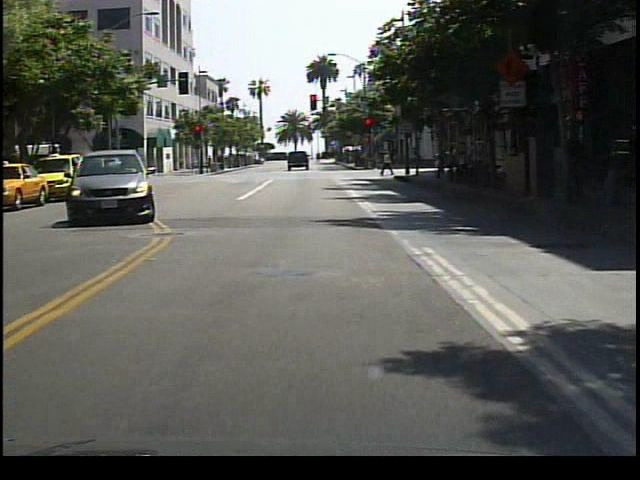person: (411, 143, 426, 174), (381, 150, 397, 177)
